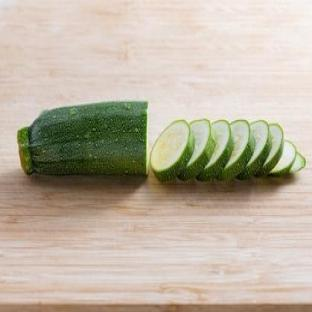Zucchini: (18, 102, 147, 175), (151, 120, 194, 182), (178, 119, 214, 179), (219, 120, 254, 181), (198, 120, 233, 181), (238, 120, 271, 178), (257, 124, 283, 175), (269, 141, 296, 176), (290, 153, 306, 173)
